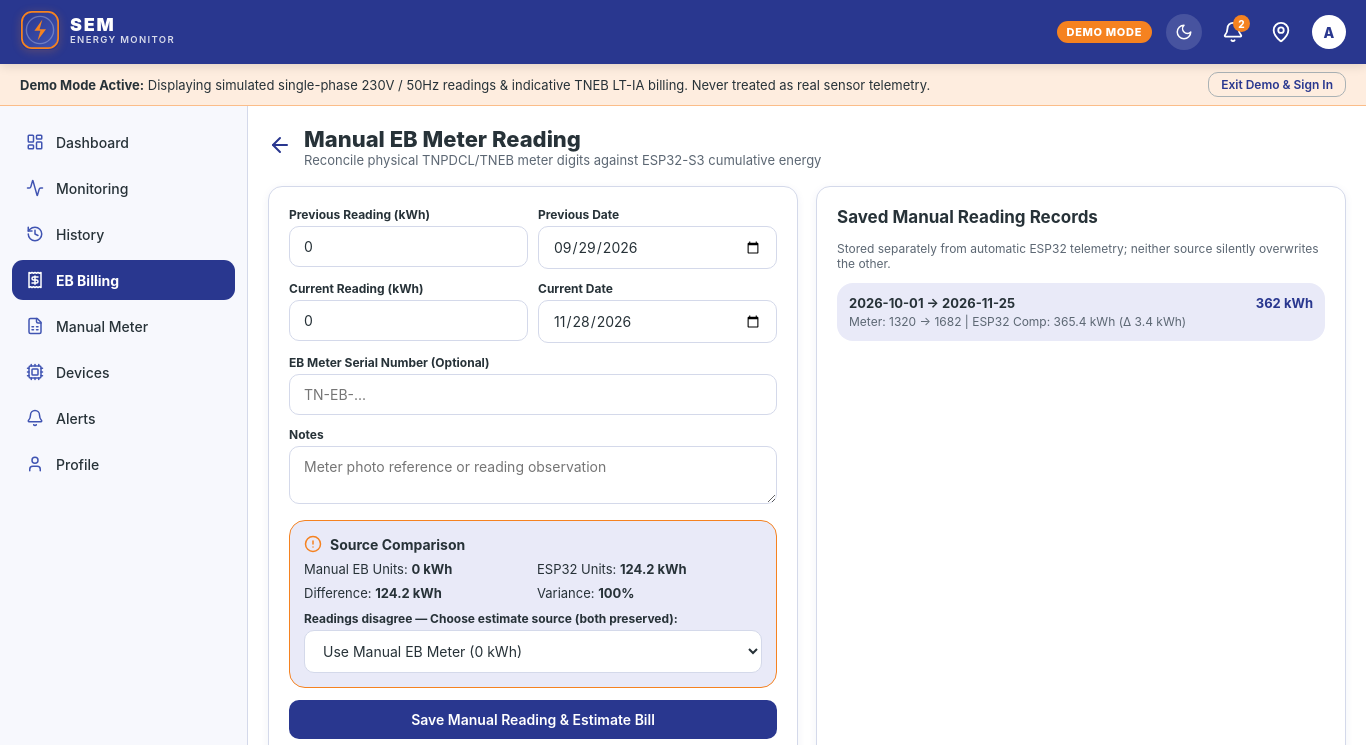
Scenario: Phase 6 Web TNEB Billing & Manual Meter Reading › detects manual vs ESP32 discrepancy and preserves both records on save
Expected: the heading "Manual EB Meter Reading" is shown, 304,126 -> 581,152
Replace the text in the number field below "Previous Reading (kWh)" with "1000" at (408, 246), box 289,226 -> 528,267
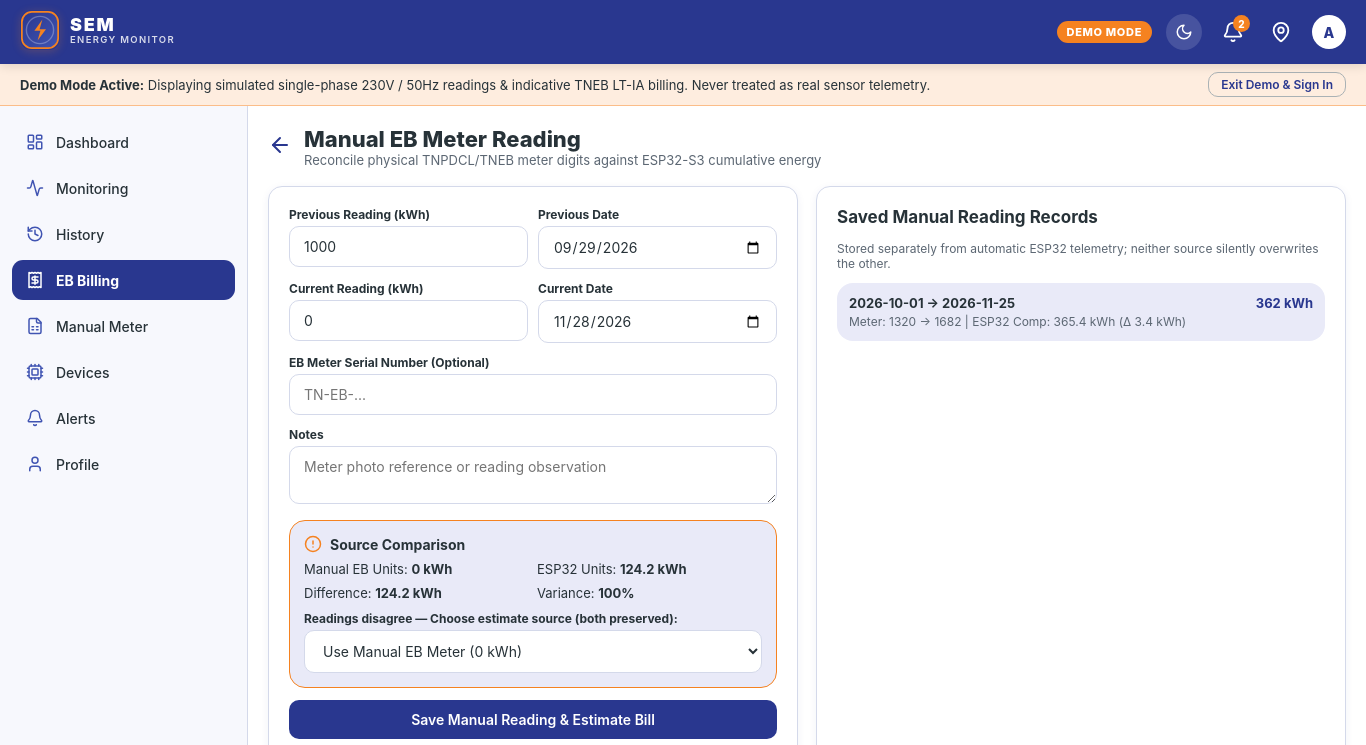
Replace the text in the number field below "Current Reading (kWh)" with "1500" at (408, 320), box 289,300 -> 528,341
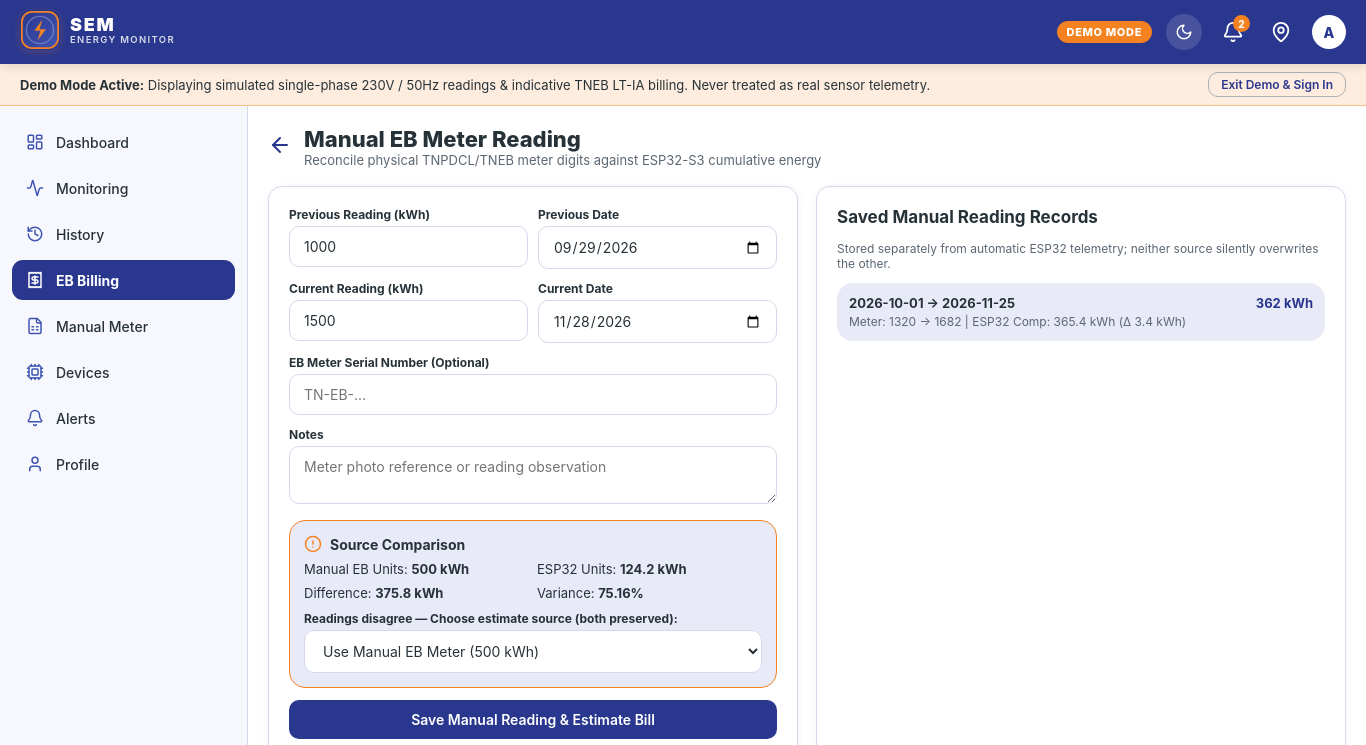
Expected: the text "Readings disagree — Choose estimate source (both preserved):" is shown, 304,611 -> 678,626
Click the button "Save Manual Reading & Estimate Bill" at (533, 720), box 289,700 -> 777,739
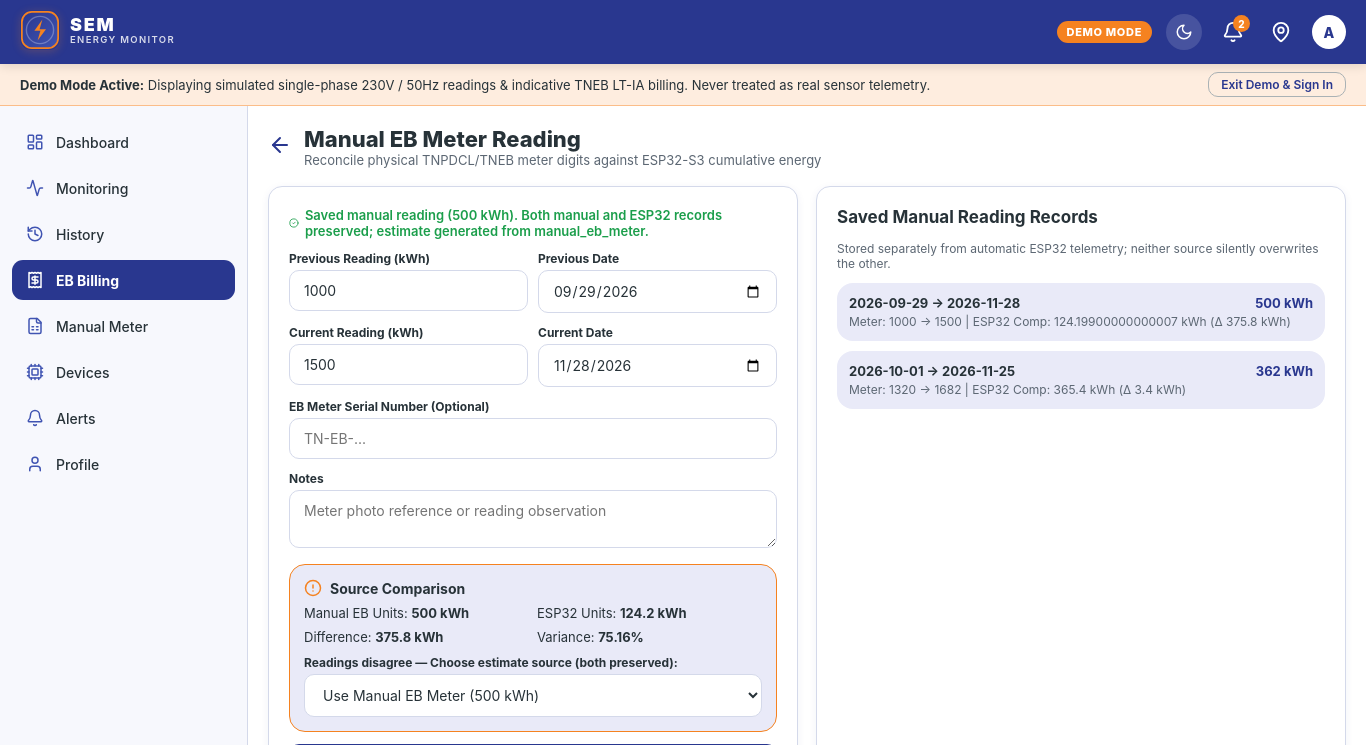
Expected: the text "Both manual and ESP32 records preserved" is shown, 305,207 -> 722,239
